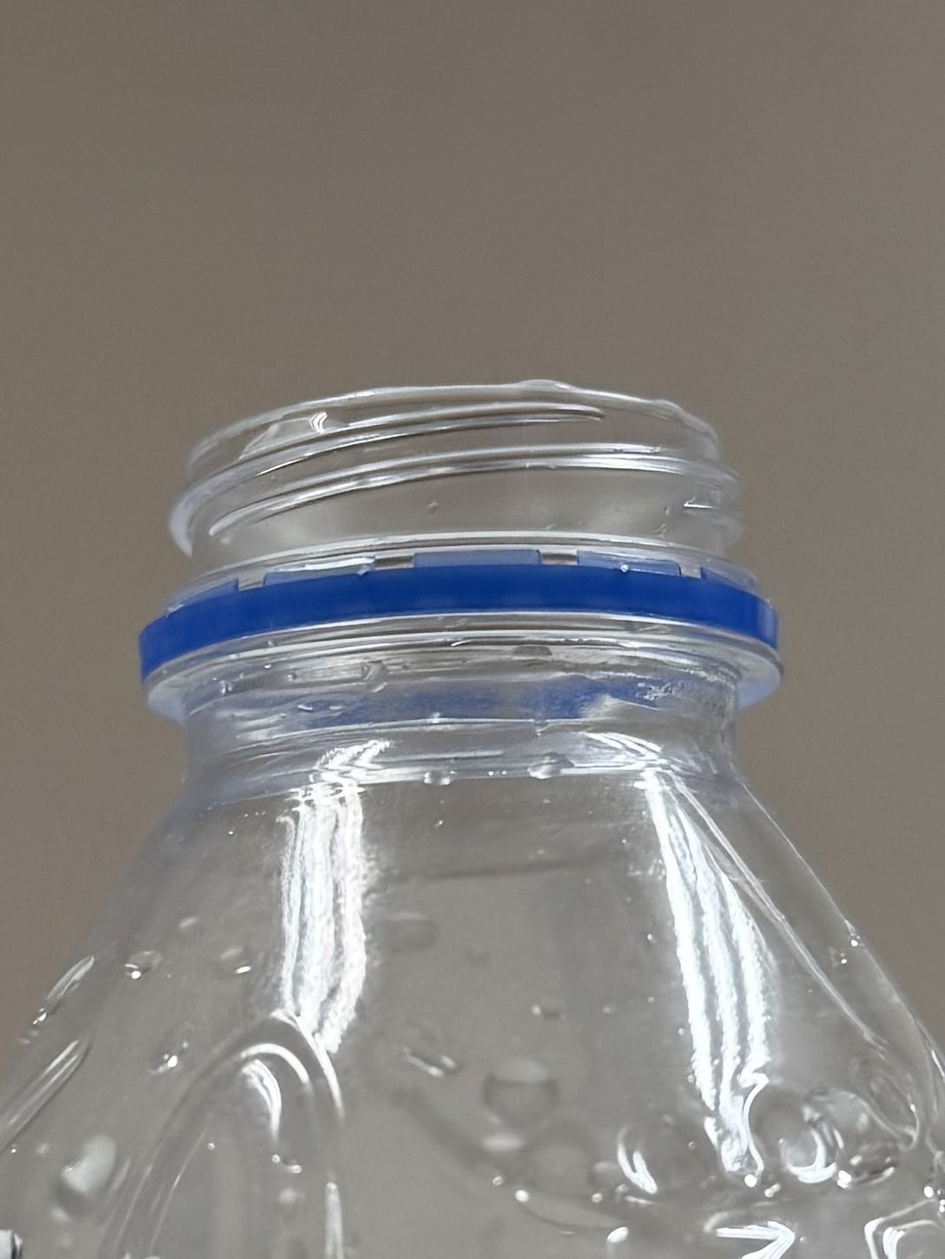no_cap: (135, 370, 786, 714)
